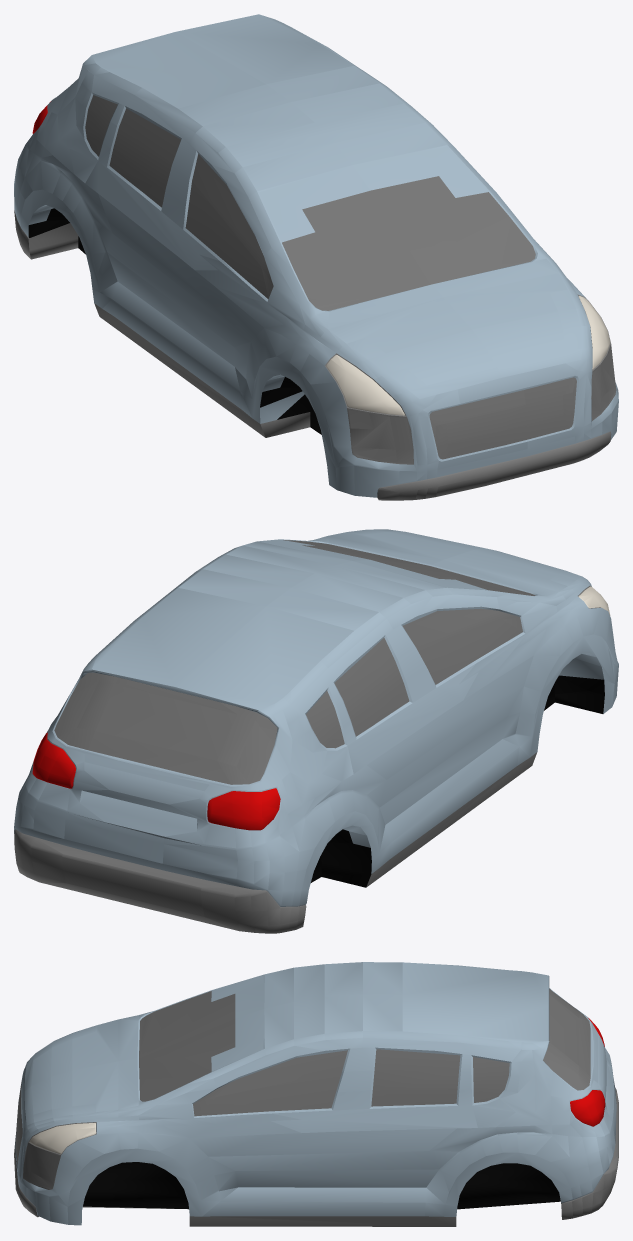
The model's file is FamilyCarChassis_reduced.fbx.
The picture shows the model from 3 angles, top to bottom: view 1: azimuth 30°, elevation 25°; view 2: azimuth 150°, elevation 25°; view 3: azimuth 270°, elevation 25°; orthographic projection. The views are drawn at different scales.
Visible parts, largest first — view 1: FamilyCar; view 2: FamilyCar; view 3: FamilyCar.
Part boxes in pixels (<box>): FamilyCar: <box>14,14,618,500</box>; FamilyCar: <box>14,529,618,933</box>; FamilyCar: <box>14,962,618,1226</box>.
Size of the model in its own units: 189 by 144 by 436.
